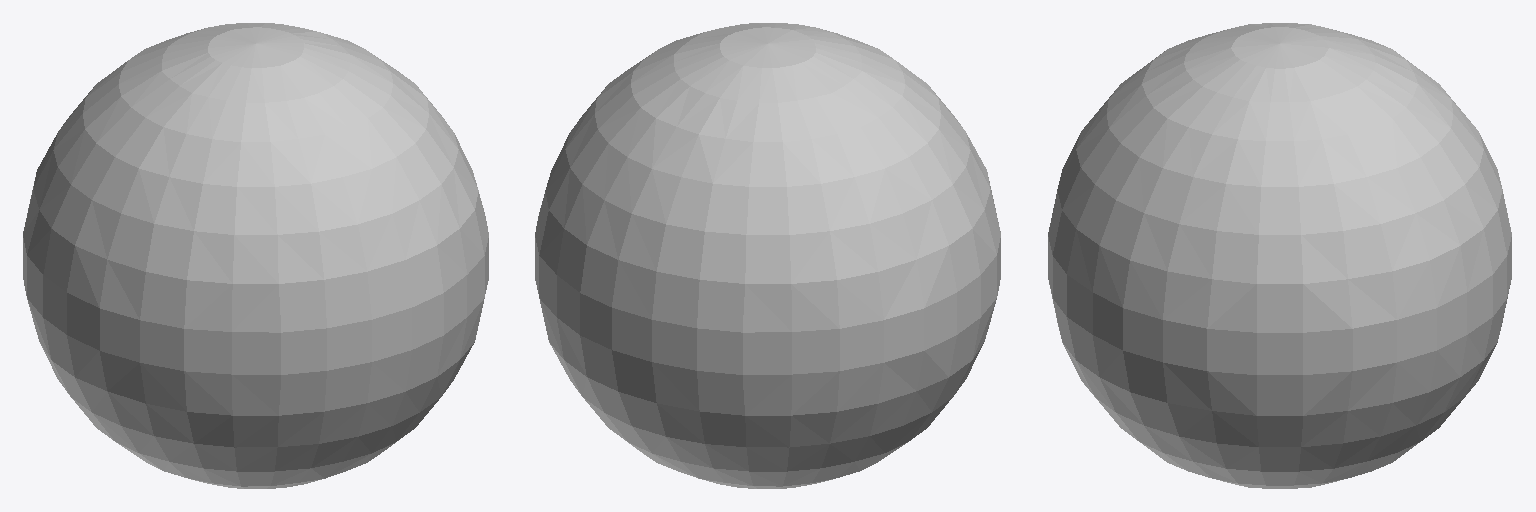
The model's file is kula.obj.
The picture shows the model from 3 angles: view 1: azimuth 30°, elevation 25°; view 2: azimuth 150°, elevation 25°; view 3: azimuth 270°, elevation 25°; orthographic projection.
Parts seen in each view (by area): view 1: Sphere001.002; view 2: Sphere001.002; view 3: Sphere001.002.
Boxes of the visible parts, x1,y1,x2,y2 form: Sphere001.002: [23, 23, 488, 488]; Sphere001.002: [535, 23, 1000, 488]; Sphere001.002: [1048, 23, 1511, 488].
Size of the model in its own units: 0.0198 by 0.02 by 0.0198.